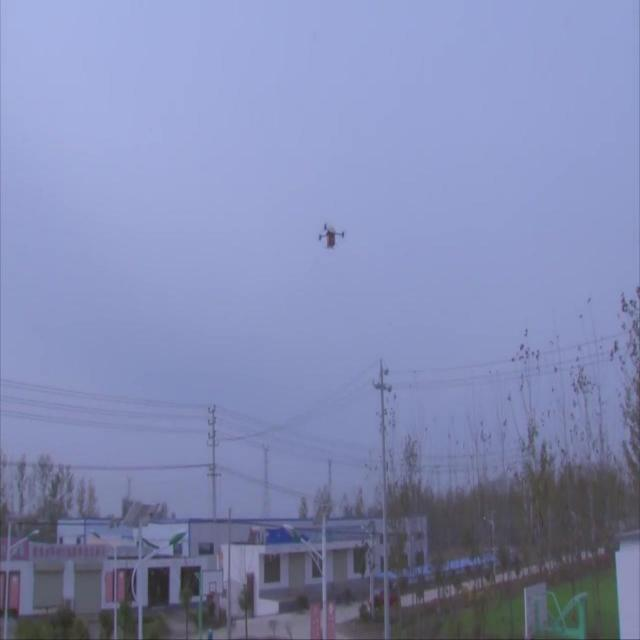UAV: (319, 223, 345, 250)
